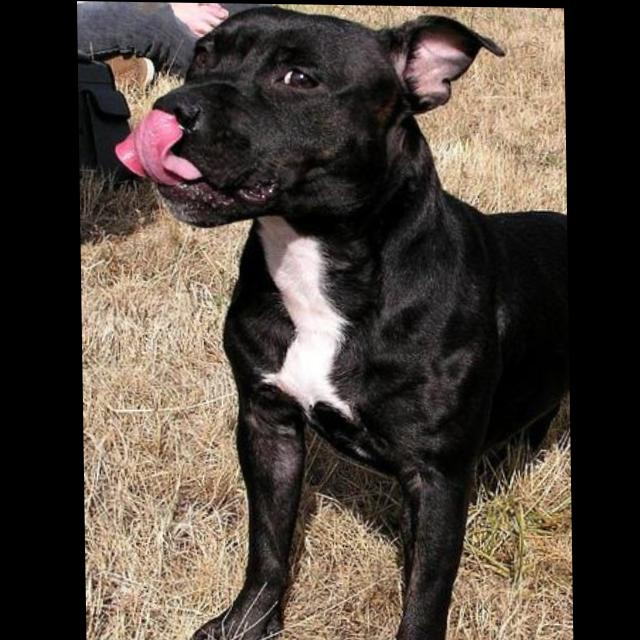staffford: (113, 2, 571, 640)
